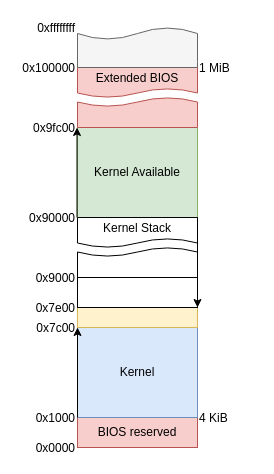
The diagram is 274 pixels wide and 474 high, and some of its shapes have lost their labels. The box of each missing label's shape, as (x1, y1, x2, y2) in pixels:
Boot Sector: (76, 306, 198, 328)
Boot Stack: (76, 276, 198, 308)
